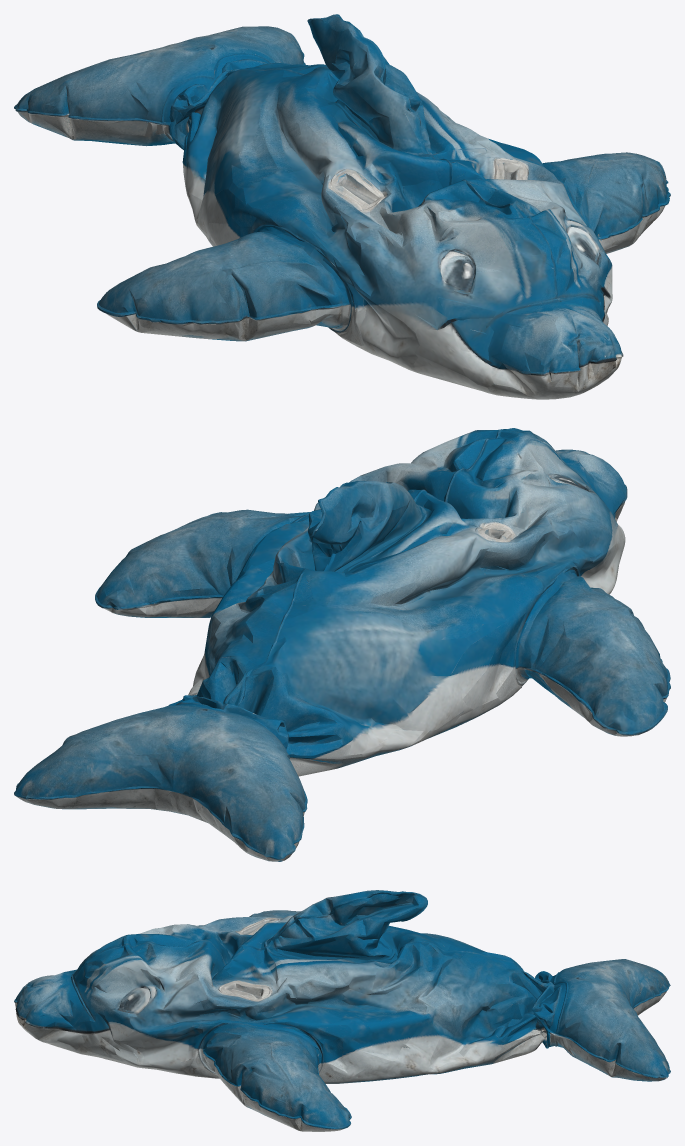
File: delfino_gonfiabile_sgonfio_meshy.glb
3 renders of one model, top to bottom at view 1: azimuth 30°, elevation 25°; view 2: azimuth 150°, elevation 25°; view 3: azimuth 270°, elevation 25°, orthographic. The views are drawn at different scales.
Parts seen in each view (by area): view 1: Mesh_0; view 2: Mesh_0; view 3: Mesh_0.
Boxes of the visible parts, bbox=[...] form: Mesh_0: bbox=[14, 14, 670, 399]; Mesh_0: bbox=[14, 428, 670, 861]; Mesh_0: bbox=[14, 890, 670, 1131].
Size of the model in its own units: 1.37 by 0.4834 by 1.9.
Materials: 1 (1 with a texture image).
